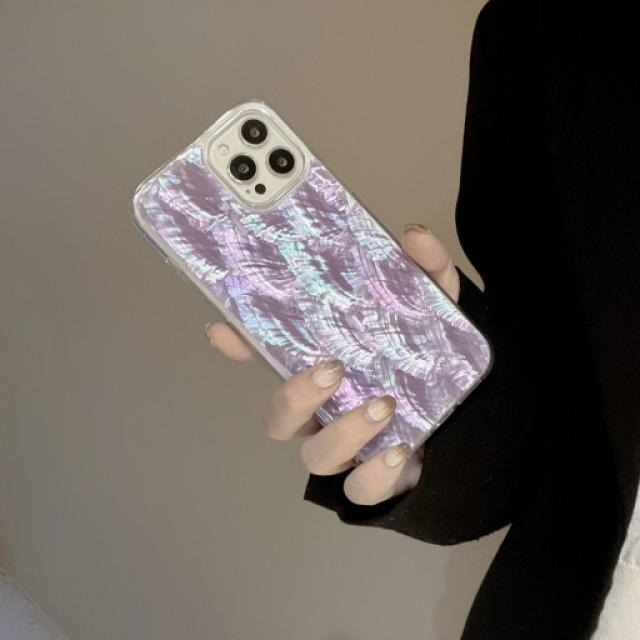phone: (132, 99, 496, 473)
